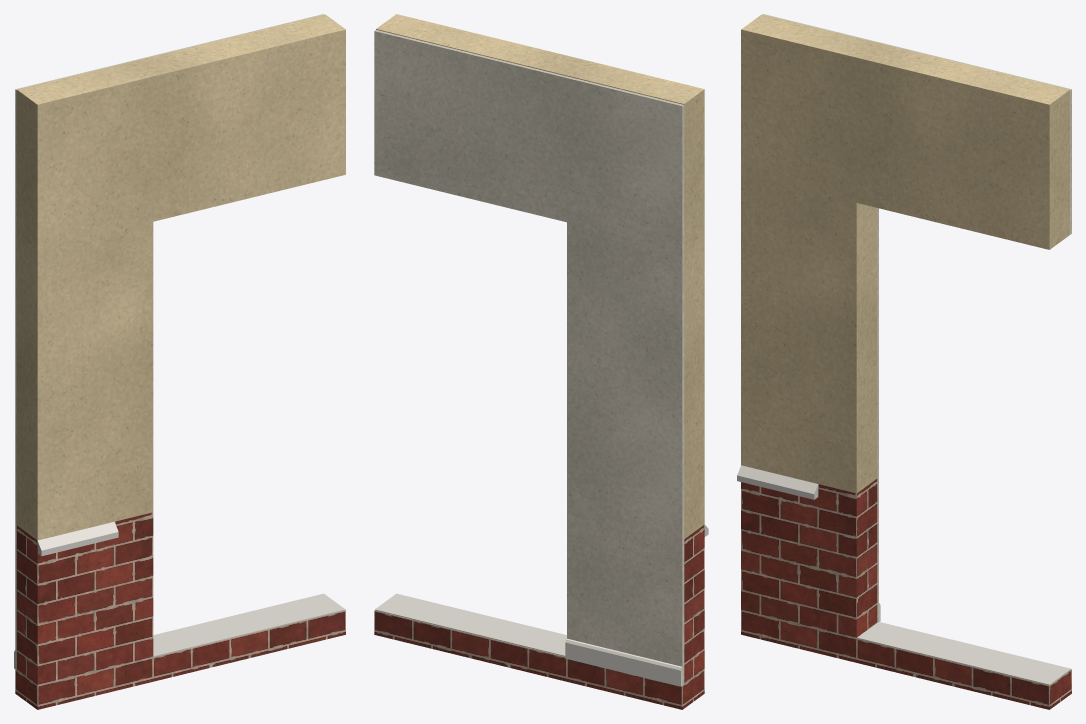
File: w_vest_l.glb
The picture shows the model from 3 angles, left to right: view 1: azimuth 30°, elevation 25°; view 2: azimuth 150°, elevation 25°; view 3: azimuth 330°, elevation 25°; orthographic projection.
Parts seen in each view (by area): view 1: w_vest_l_render, w_vest_l_brick, w_vest_l_cill, w_vest_l_plaster; view 2: w_vest_l_plaster, w_vest_l_render, w_vest_l_brick, w_vest_l_cill, w_vest_l_trim; view 3: w_vest_l_render, w_vest_l_brick, w_vest_l_cill, w_vest_l_plaster.
Part boxes in pixels (x1,y1,x2,y2): w_vest_l_render: (17,14,345,540); w_vest_l_brick: (15,512,345,709); w_vest_l_cill: (37,521,345,657); w_vest_l_plaster: (15,14,323,670); w_vest_l_plaster: (374,30,684,685); w_vest_l_render: (376,14,704,538); w_vest_l_brick: (374,524,704,709); w_vest_l_cill: (375,525,708,656); w_vest_l_trim: (565,638,682,686); w_vest_l_render: (741,14,1069,493); w_vest_l_brick: (741,479,1071,709); w_vest_l_cill: (737,465,1071,685); w_vest_l_plaster: (763,14,1071,622).
Bounding box in the file's own units: 2 × 3.75 × 0.311.
5 materials, 3 textured.
